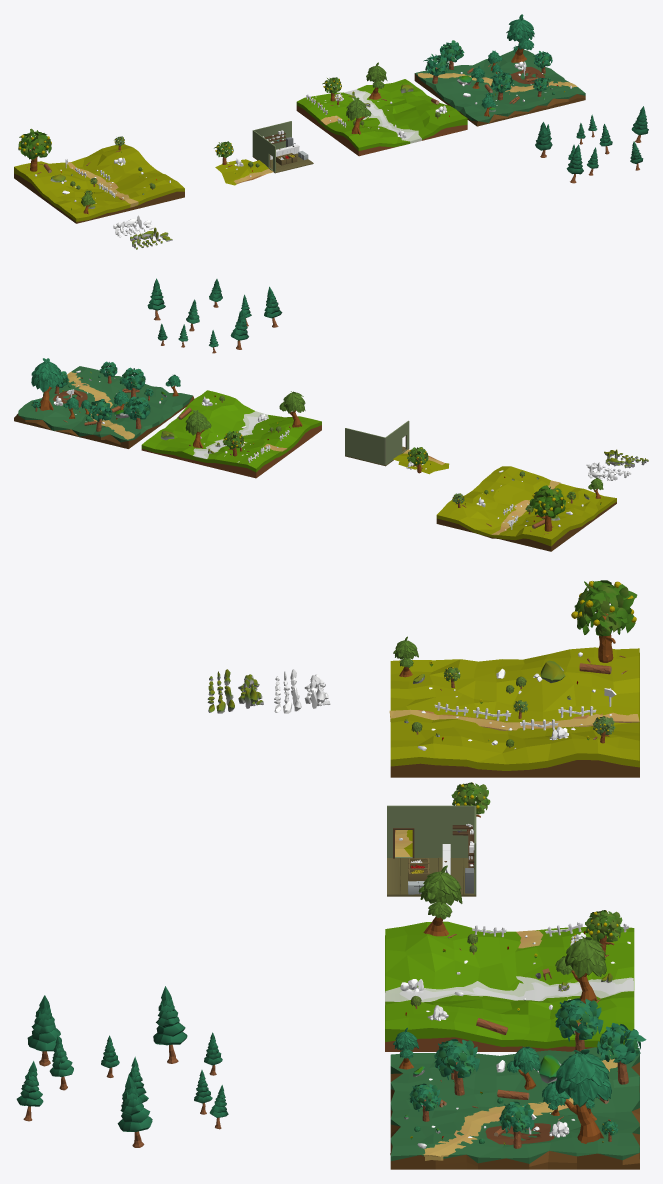
Rendered from FlorestaBrumas.fbx_Scene_Scene_Collection.fbx.
3 views of the same model, one above another, from view 1: azimuth 30°, elevation 25°; view 2: azimuth 150°, elevation 25°; view 3: azimuth 270°, elevation 25° (orthographic). The views are drawn at different scales.
Visible parts, largest first — view 1: Water, Water.001, Water.003, Mercearia, Water.002, Arvore.095, Ground.002, Arvore.006, Arvore.008, Arvore.013, Arvore.103, Arvore.097 (+2 smaller); view 2: Water, Water.001, Water.003, Mercearia, Arvore.095, Arvore.006, Ground.002, Arvore.013, Arvore.008, Water.002, Arvore.103, Arvore.097 (+1 smaller); view 3: Water, Water.001, Water.003, Mercearia, Arvore.095, Ground.002, Arvore.006, Arvore.013, Arvore.008, Arvore.103, Arvore.099, Arvore.097 (+5 smaller).
Boxes of the visible parts, x1=… form: Water: x1=14, y1=144, x2=184, y2=223; Water.001: x1=296, y1=79, x2=467, y2=156; Water.003: x1=414, y1=50, x2=585, y2=126; Mercearia: x1=252, y1=121, x2=313, y2=173; Water.002: x1=215, y1=159, x2=273, y2=185; Arvore.095: x1=506, y1=14, x2=534, y2=62; Ground.002: x1=344, y1=89, x2=421, y2=143; Arvore.006: x1=18, y1=128, x2=51, y2=159; Arvore.008: x1=346, y1=97, x2=371, y2=134; Arvore.013: x1=366, y1=62, x2=387, y2=99; Arvore.103: x1=423, y1=54, x2=448, y2=76; Arvore.097: x1=489, y1=71, x2=513, y2=92; Water: x1=436, y1=466, x2=616, y2=551; Water.001: x1=141, y1=390, x2=321, y2=478; Water.003: x1=14, y1=366, x2=194, y2=448; Mercearia: x1=345, y1=420, x2=409, y2=466; Arvore.095: x1=31, y1=358, x2=63, y2=410; Arvore.006: x1=529, y1=485, x2=565, y2=517; Ground.002: x1=193, y1=411, x2=268, y2=458; Arvore.013: x1=185, y1=410, x2=211, y2=448; Arvore.008: x1=279, y1=391, x2=305, y2=427; Water.002: x1=393, y1=449, x2=449, y2=474; Arvore.103: x1=123, y1=396, x2=150, y2=420; Arvore.097: x1=119, y1=367, x2=145, y2=389; Water: x1=389, y1=647, x2=639, y2=777; Water.001: x1=385, y1=921, x2=634, y2=1051; Water.003: x1=390, y1=1047, x2=639, y2=1169; Mercearia: x1=387, y1=805, x2=476, y2=896; Arvore.095: x1=542, y1=1049, x2=611, y2=1143; Ground.002: x1=385, y1=976, x2=633, y2=1004; Arvore.006: x1=574, y1=580, x2=637, y2=636; Arvore.013: x1=555, y1=936, x2=606, y2=1003; Arvore.008: x1=418, y1=865, x2=462, y2=936; Arvore.103: x1=555, y1=998, x2=603, y2=1041; Arvore.099: x1=597, y1=1023, x2=646, y2=1064; Arvore.097: x1=434, y1=1039, x2=479, y2=1079.
Bounding box in the file's own units: 6991 × 704 × 3717.
